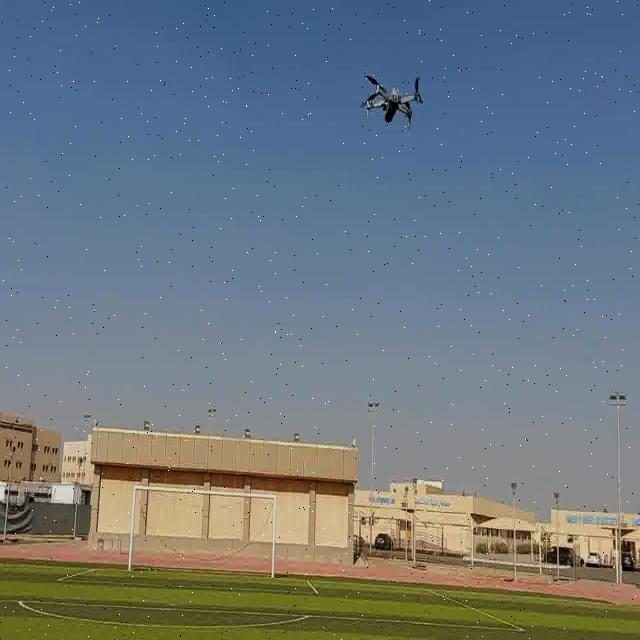drone: (357, 69, 425, 135)
